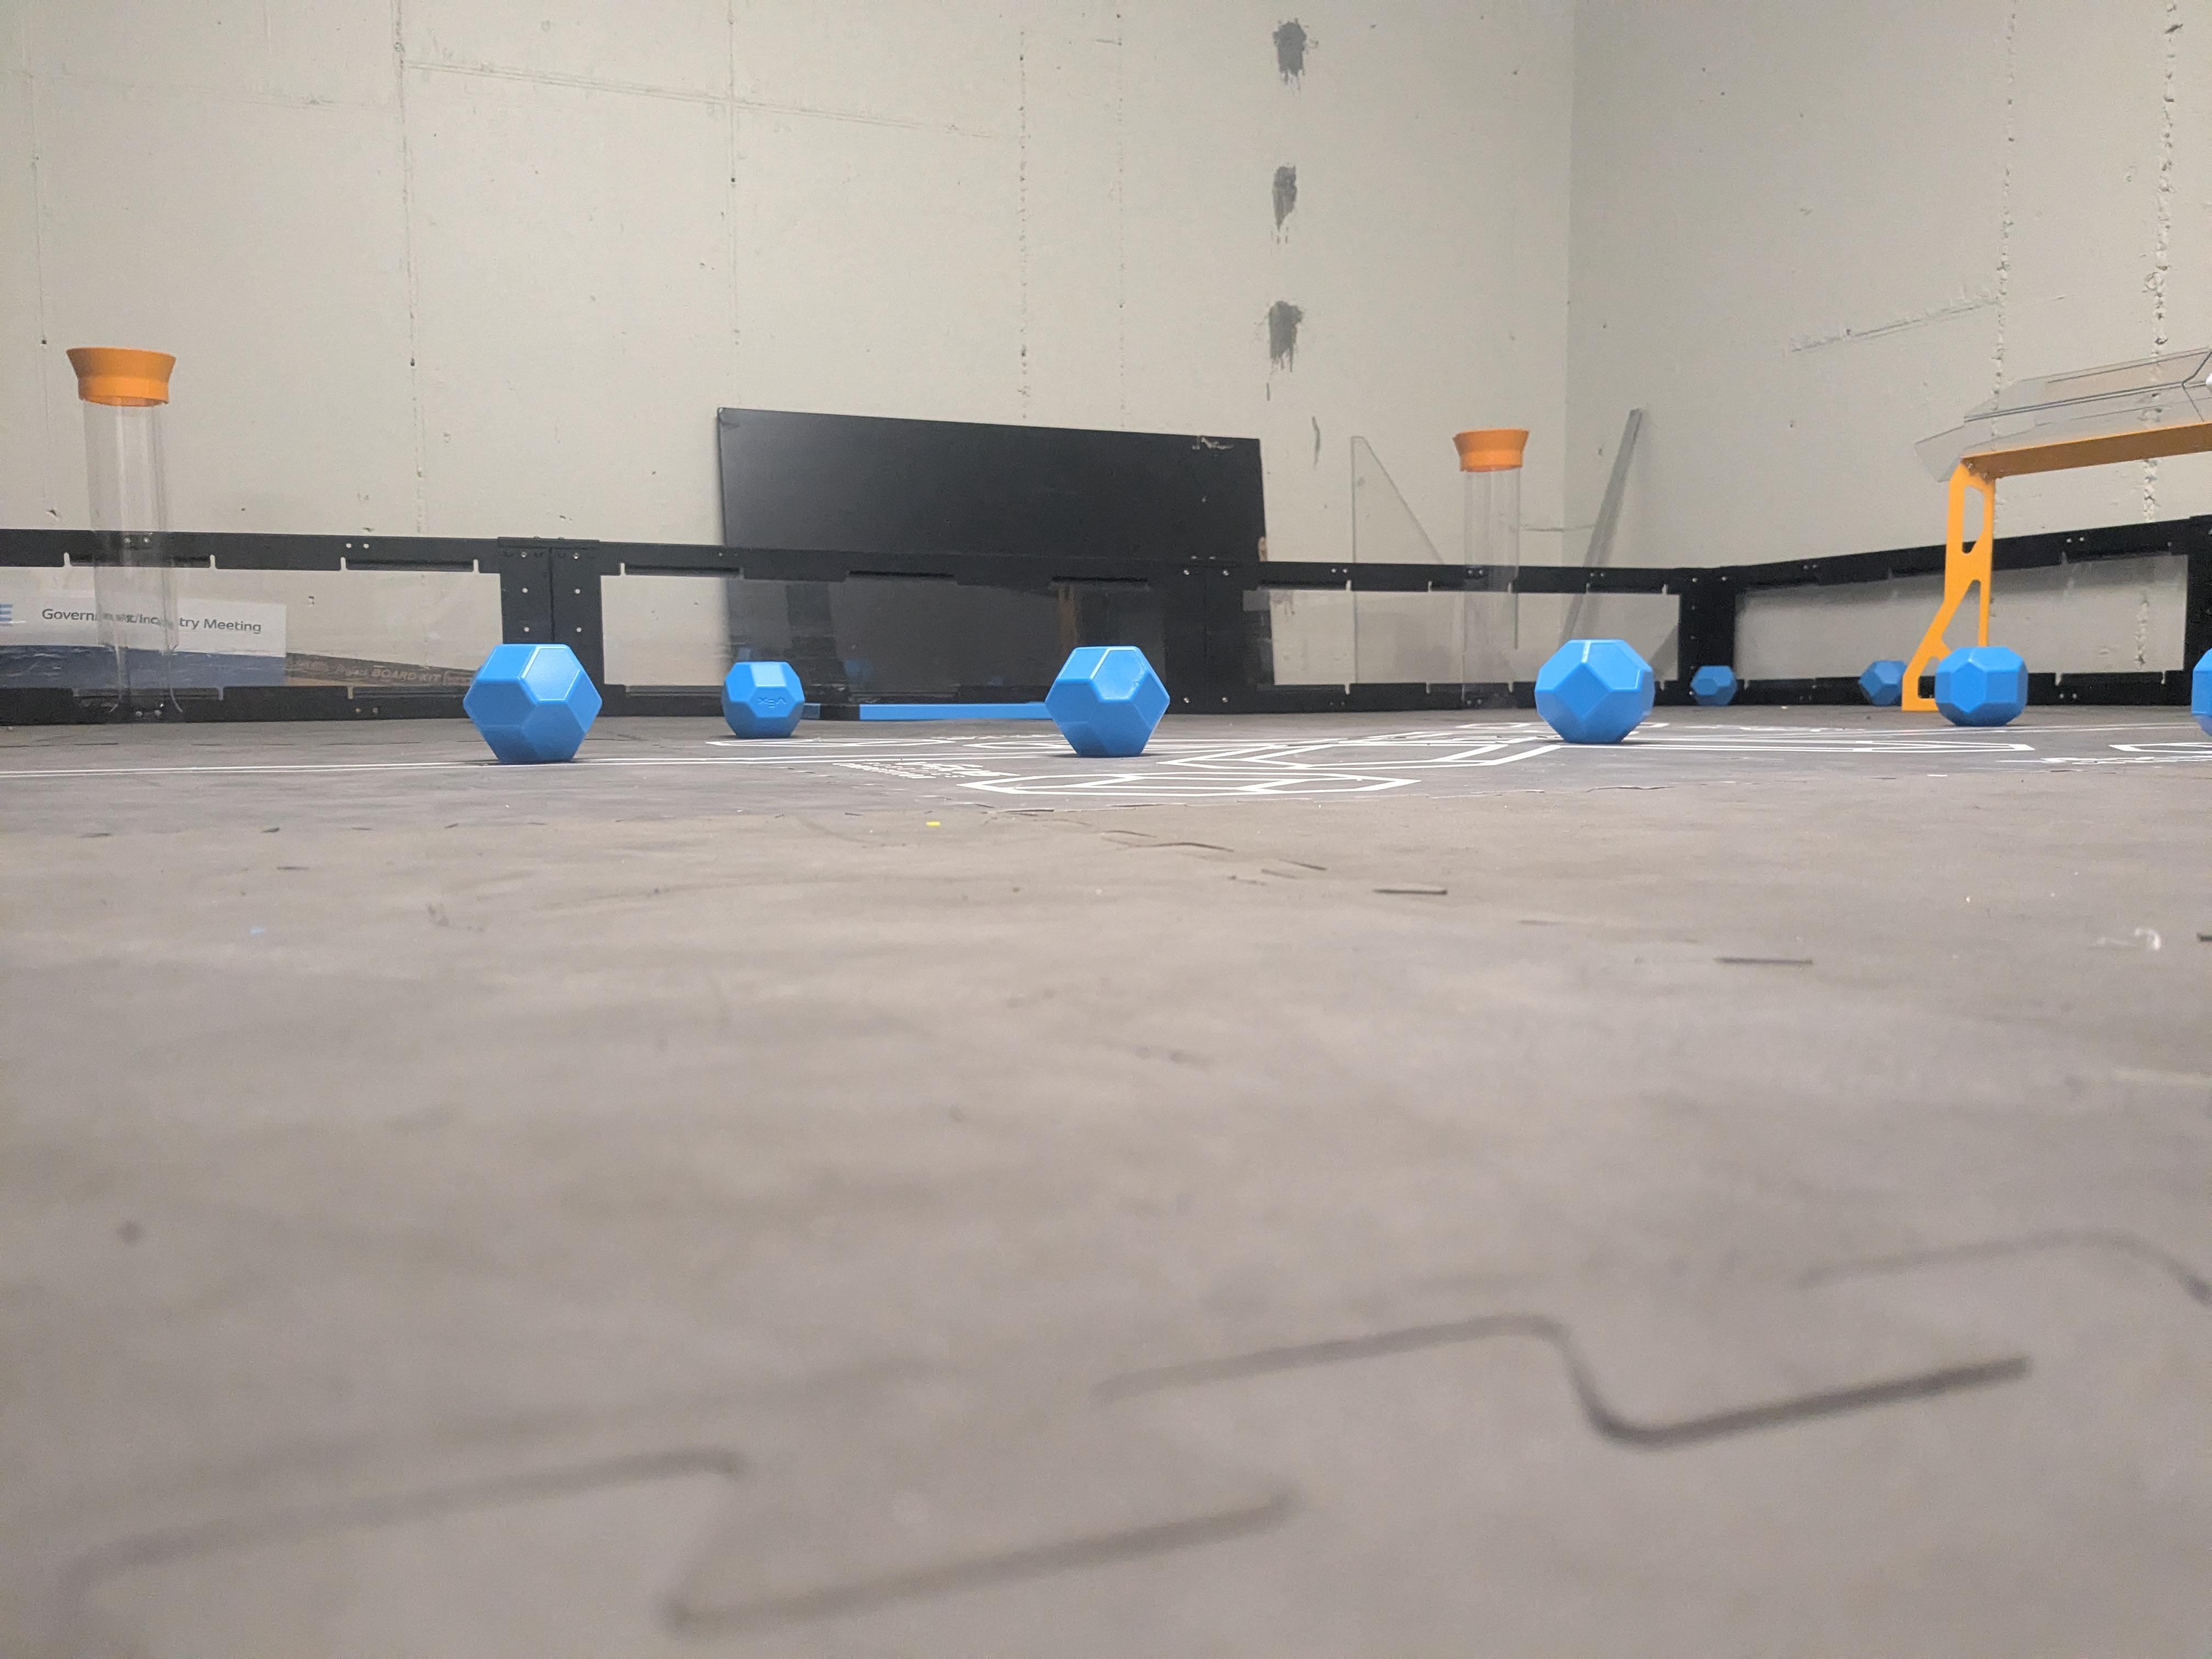Vex-Pieces-BLUE: (465, 645, 604, 765), (1050, 647, 1169, 755), (1534, 640, 1651, 744), (1932, 647, 2027, 723), (723, 662, 798, 734), (1858, 660, 1905, 706), (1691, 666, 1738, 706)
